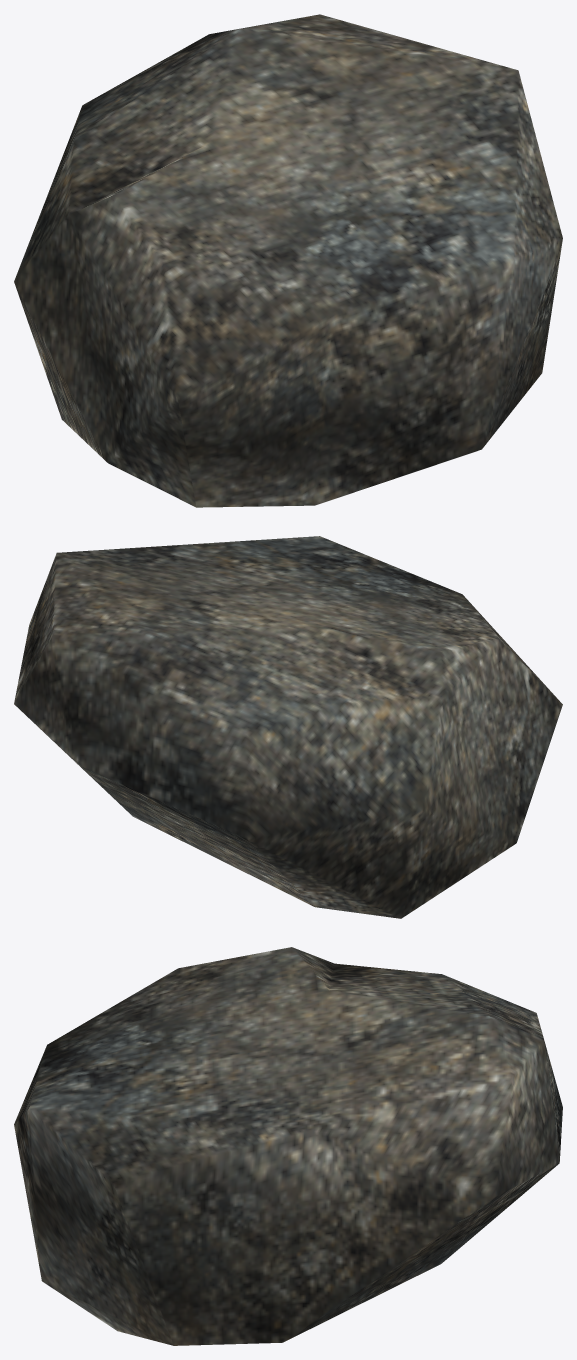
Rendered from SC_yonghengsenlin_shitou11.FBX.
The picture shows the model from 3 angles, top to bottom: view 1: azimuth 30°, elevation 25°; view 2: azimuth 150°, elevation 25°; view 3: azimuth 270°, elevation 25°; orthographic projection. The views are drawn at different scales.
Parts seen in each view (by area): view 1: SC_yonghengsenlin_shitou11; view 2: SC_yonghengsenlin_shitou11; view 3: SC_yonghengsenlin_shitou11.
Boxes of the visible parts, <box> form: SC_yonghengsenlin_shitou11: <box>14,14,562,507</box>; SC_yonghengsenlin_shitou11: <box>14,536,562,918</box>; SC_yonghengsenlin_shitou11: <box>14,947,562,1345</box>.
Bounding box in the file's own units: 675 × 407 × 691.
